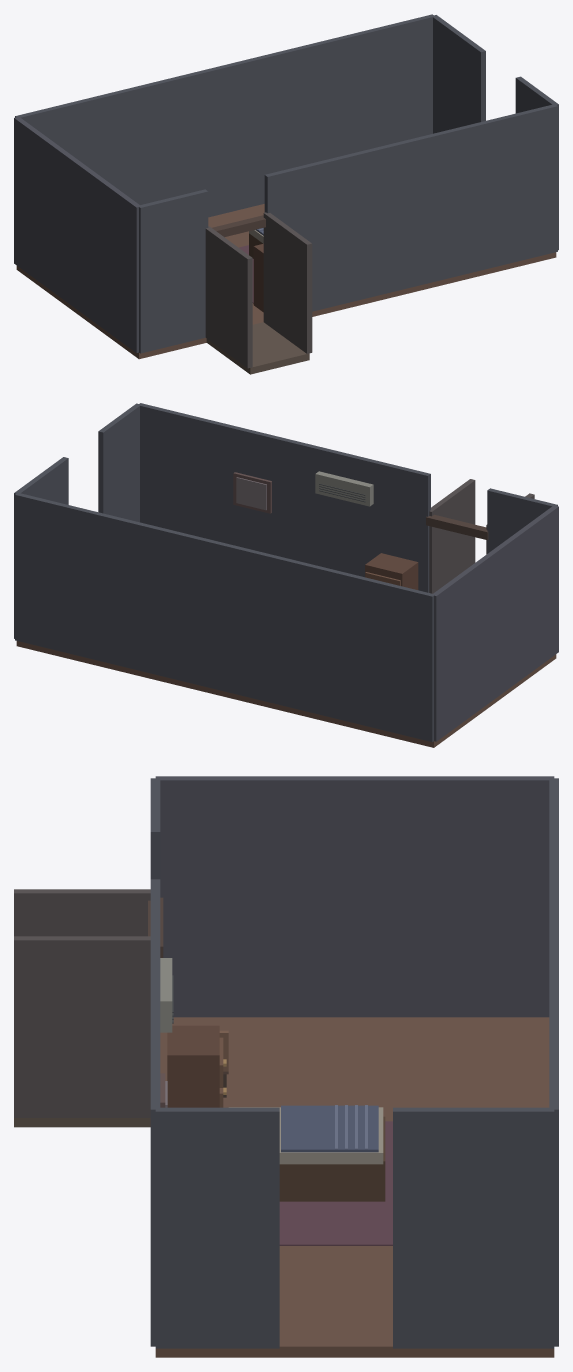
The model's file is dormitorioRadeC3.obj.
3 views of the same model, one above another, from view 1: azimuth 30°, elevation 25°; view 2: azimuth 150°, elevation 25°; view 3: azimuth 270°, elevation 25° (orthographic). The views are drawn at different scales.
Parts seen in each view (by area): view 1: Pared_sur, Pared_norte_derecha, Pared_oeste, Paso_estrecho, Pared_norte_izquierda, Pared_este_inferior, Piso_del_dormitorio, Paso_al_cuarto_de_la_computadora, Decoración_original, Pared_este_superior, Cómoda; view 2: Pared_sur, Pared_norte_derecha, Pared_oeste, Decoración_original, Pared_este_superior, Paso_estrecho, Piso_del_dormitorio, Pared_norte_izquierda, Pared_este_inferior, Cómoda; view 3: Pared_oeste, Piso_del_dormitorio, Pared_este_inferior, Paso_estrecho, Pared_este_superior, Decoración_original, Pared_sur, Cómoda, Base_de_cama, Pared_norte_derecha, Paso_al_cuarto_de_la_computadora, Pared_norte_izquierda.
Part boxes in pixels (x1,y1,x2,y2): Pared_sur: [15, 14, 434, 217]; Pared_norte_derecha: [264, 104, 557, 311]; Pared_oeste: [14, 116, 140, 352]; Paso_estrecho: [205, 212, 312, 368]; Pared_norte_izquierda: [139, 189, 208, 353]; Pared_este_inferior: [433, 15, 485, 133]; Piso_del_dormitorio: [16, 204, 556, 359]; Paso_al_cuarto_de_la_computadora: [206, 322, 309, 374]; Decoración_original: [208, 200, 265, 303]; Pared_este_superior: [515, 76, 558, 250]; Cómoda: [253, 243, 263, 312]; Pared_sur: [15, 492, 433, 742]; Pared_norte_derecha: [138, 403, 430, 592]; Pared_oeste: [432, 505, 558, 741]; Decoración_original: [15, 471, 488, 741]; Pared_este_superior: [98, 403, 139, 522]; Paso_estrecho: [429, 479, 534, 593]; Piso_del_dormitorio: [16, 641, 556, 747]; Pared_norte_izquierda: [487, 488, 557, 553]; Pared_este_inferior: [14, 457, 68, 638]; Cómoda: [365, 553, 418, 589]; Pared_oeste: [155, 776, 554, 1017]; Piso_del_dormitorio: [155, 1017, 554, 1357]; Pared_este_inferior: [393, 1107, 554, 1348]; Paso_estrecho: [14, 889, 150, 1117]; Pared_este_superior: [155, 1107, 279, 1348]; Decoración_original: [148, 897, 558, 1346]; Pared_sur: [549, 778, 558, 1346]; Cómoda: [167, 1025, 219, 1107]; Base_de_cama: [279, 1116, 385, 1201]; Pared_norte_derecha: [150, 879, 160, 1346]; Paso_al_cuarto_de_la_computadora: [14, 1118, 150, 1127]; Pared_norte_izquierda: [150, 778, 160, 879].
Bounding box in the file's own units: 18.22 × 6.28 × 12.51.
